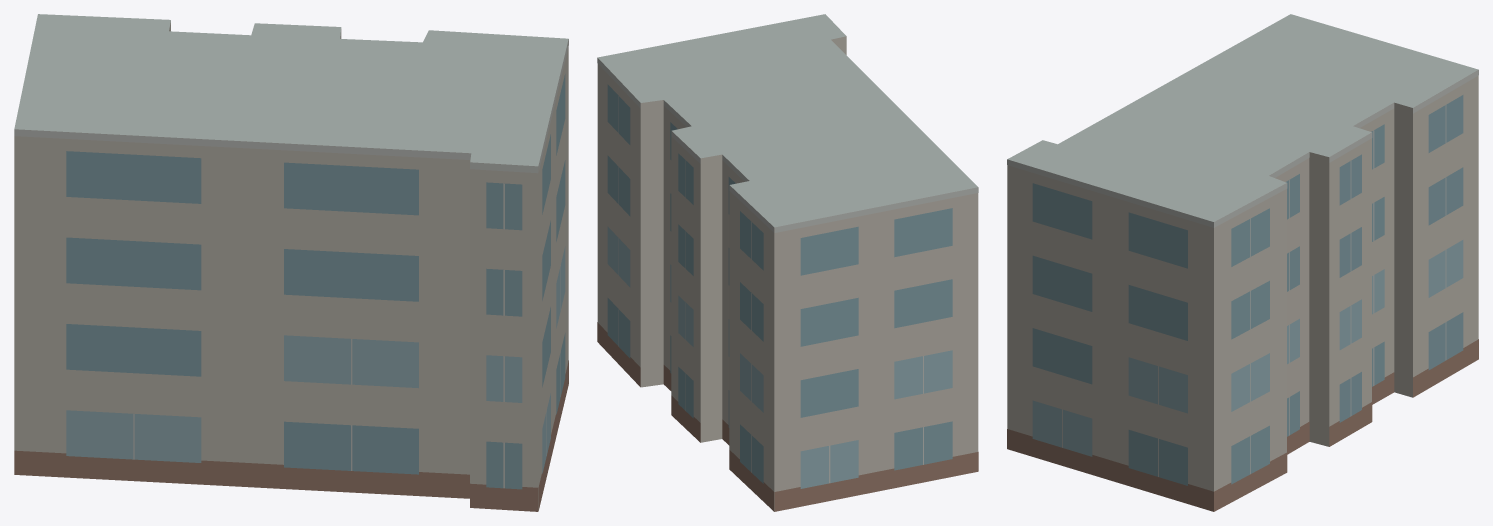
File: survey-upis-33034947.glb
3 renders of one model, left to right at view 1: azimuth 30°, elevation 25°; view 2: azimuth 150°, elevation 25°; view 3: azimuth 270°, elevation 25°, orthographic. The views are drawn at different scales.
Parts seen in each view (by area): view 1: survey-upis-33034947.tmp; view 2: survey-upis-33034947.tmp; view 3: survey-upis-33034947.tmp.
Part boxes in pixels (x1=…): survey-upis-33034947.tmp: x1=14, y1=14, x2=568, y2=511; survey-upis-33034947.tmp: x1=597, y1=14, x2=978, y2=511; survey-upis-33034947.tmp: x1=1007, y1=14, x2=1478, y2=511.
Size of the model in its own units: 18.8 by 12.2 by 18.
